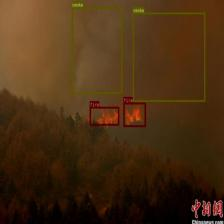fire: (89, 106, 119, 125), (123, 103, 146, 127)
smoke: (132, 12, 206, 102), (72, 7, 122, 93)
